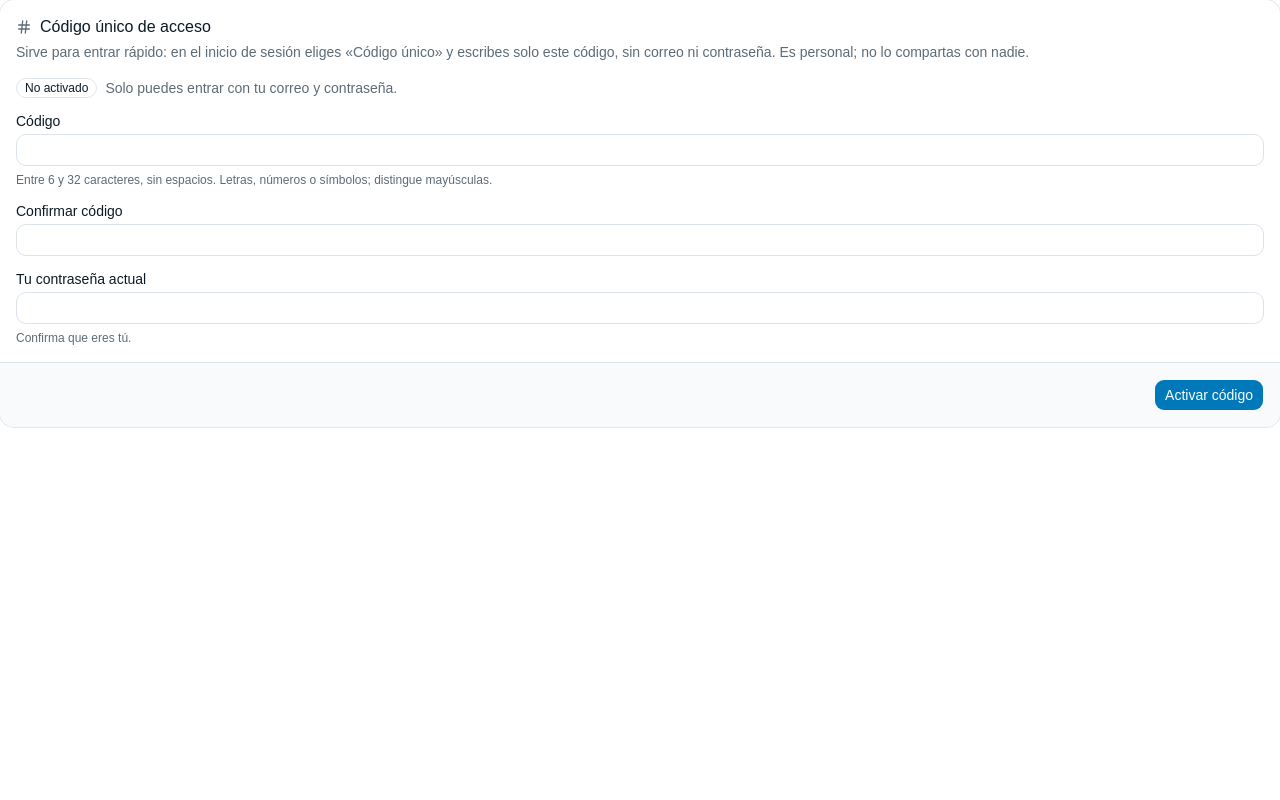
Test: CodigoAccesoForm › activa el código con PUT { password, codigo } y muestra «Activo desde»
This screenshot has width=1280, height=800.
Expected: the text "No activado" is shown, [16,78,97,98]
Type "Rita#2026" into the password field labelled "Código" at (640, 150), box [16,134,1264,166]
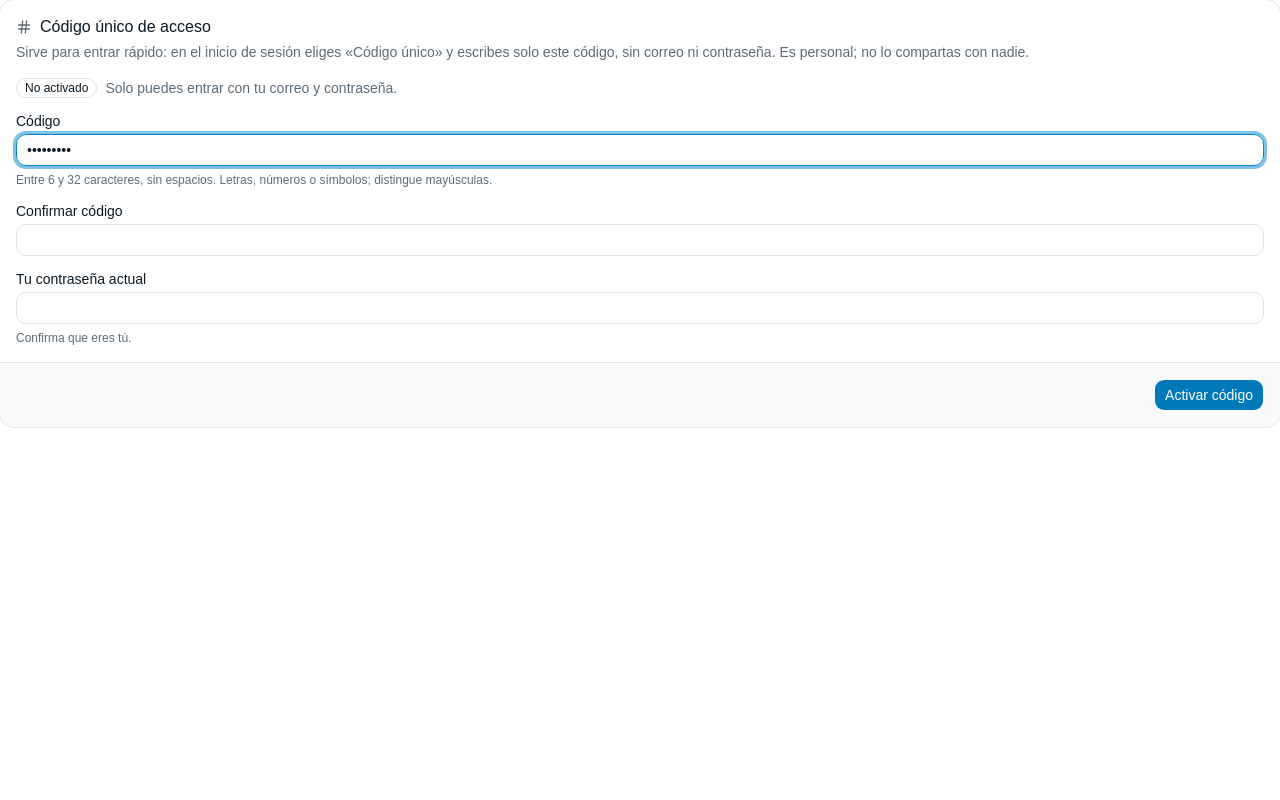
Type "Rita#2026" into the password field labelled "Confirmar código" at (640, 240), box [16,224,1264,256]
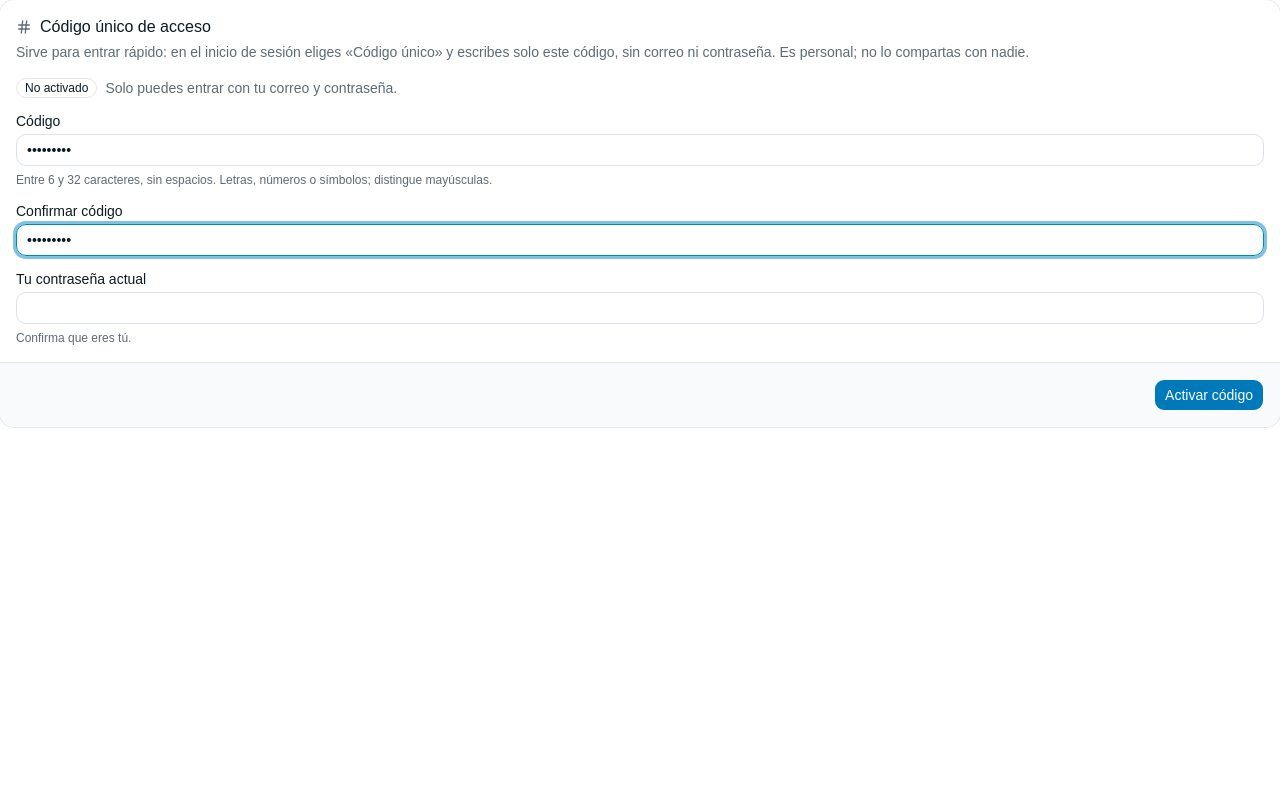
Type "Repartidor123!" into the password field labelled "Tu contraseña actual" at (640, 308), box [16,292,1264,324]
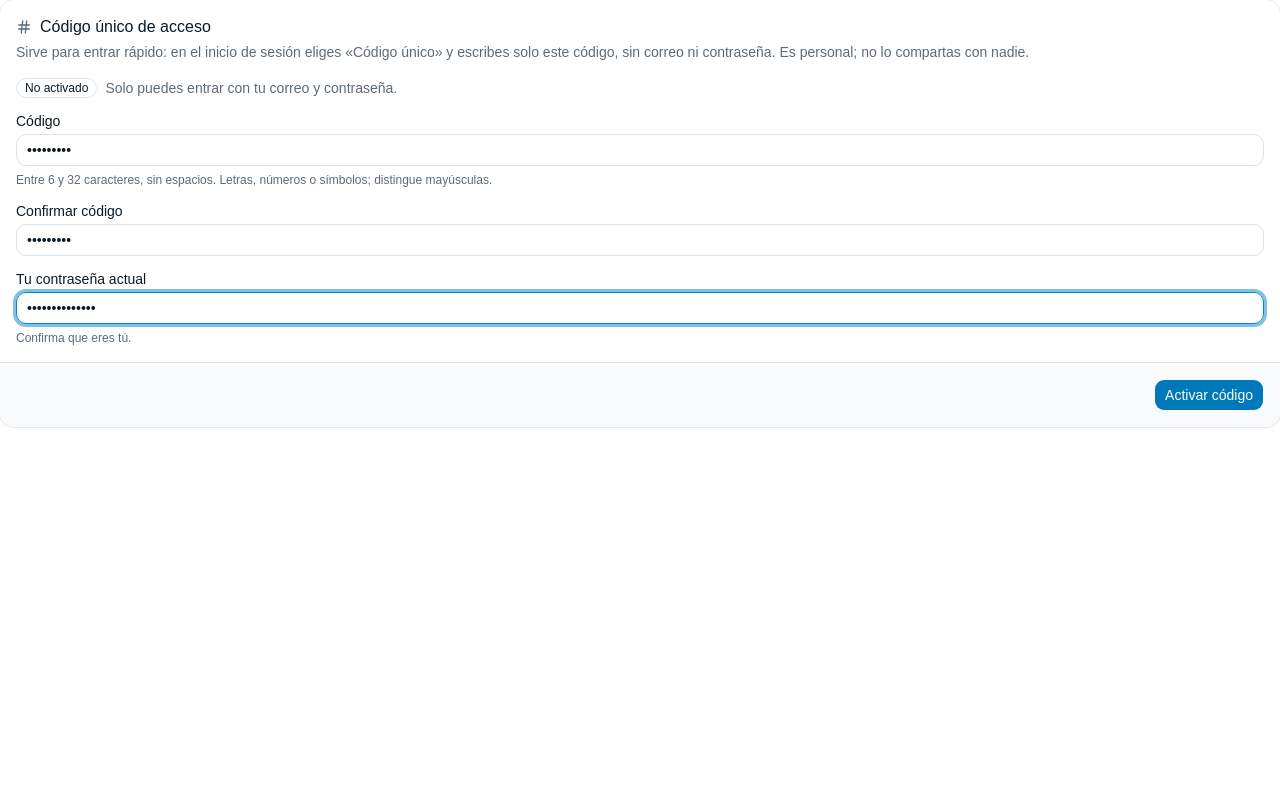
Click the button "Activar código" at (1209, 395), box [1154,379,1264,411]
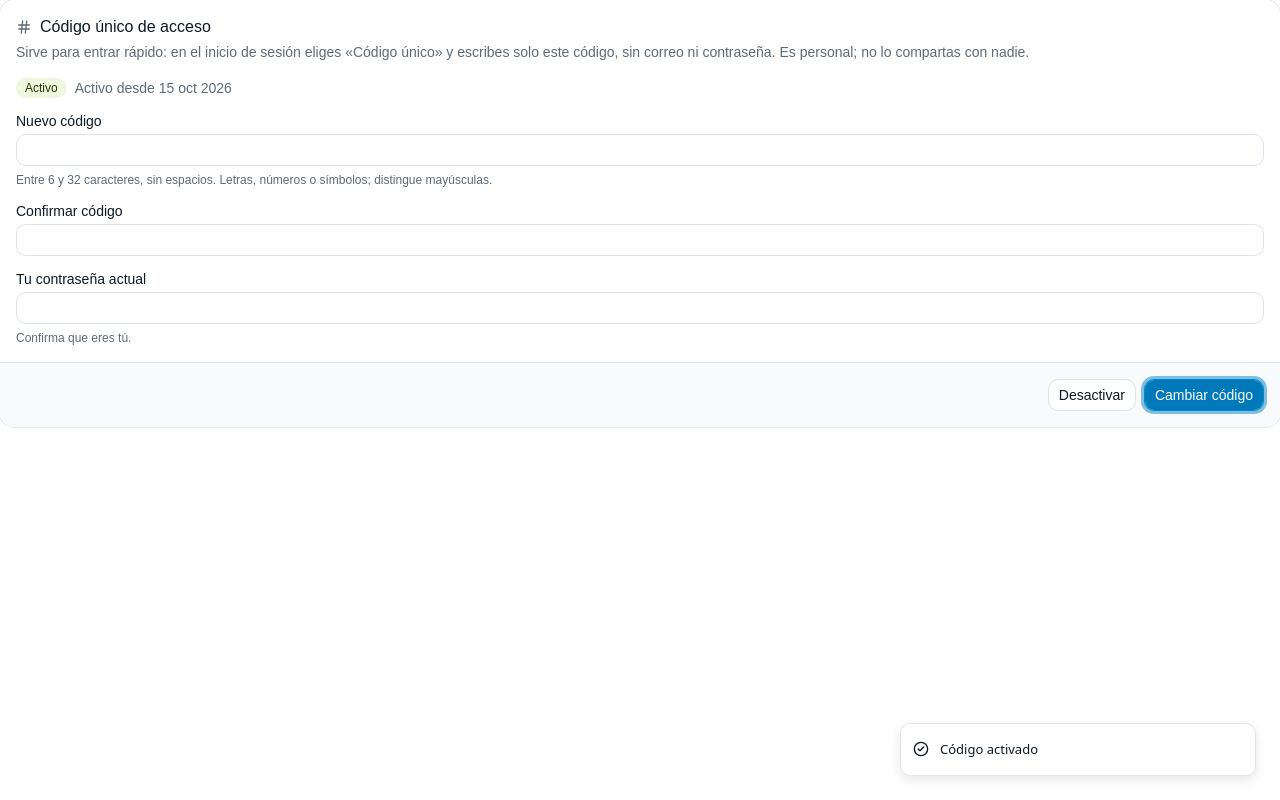
Expected: the text "Código activado" is shown, [940,740,1038,759]
Expected: the button "Cambiar código" is shown, [1144,379,1264,411]
Expected: the password field labelled "Nuevo código" is empty, [16,134,1264,166]
